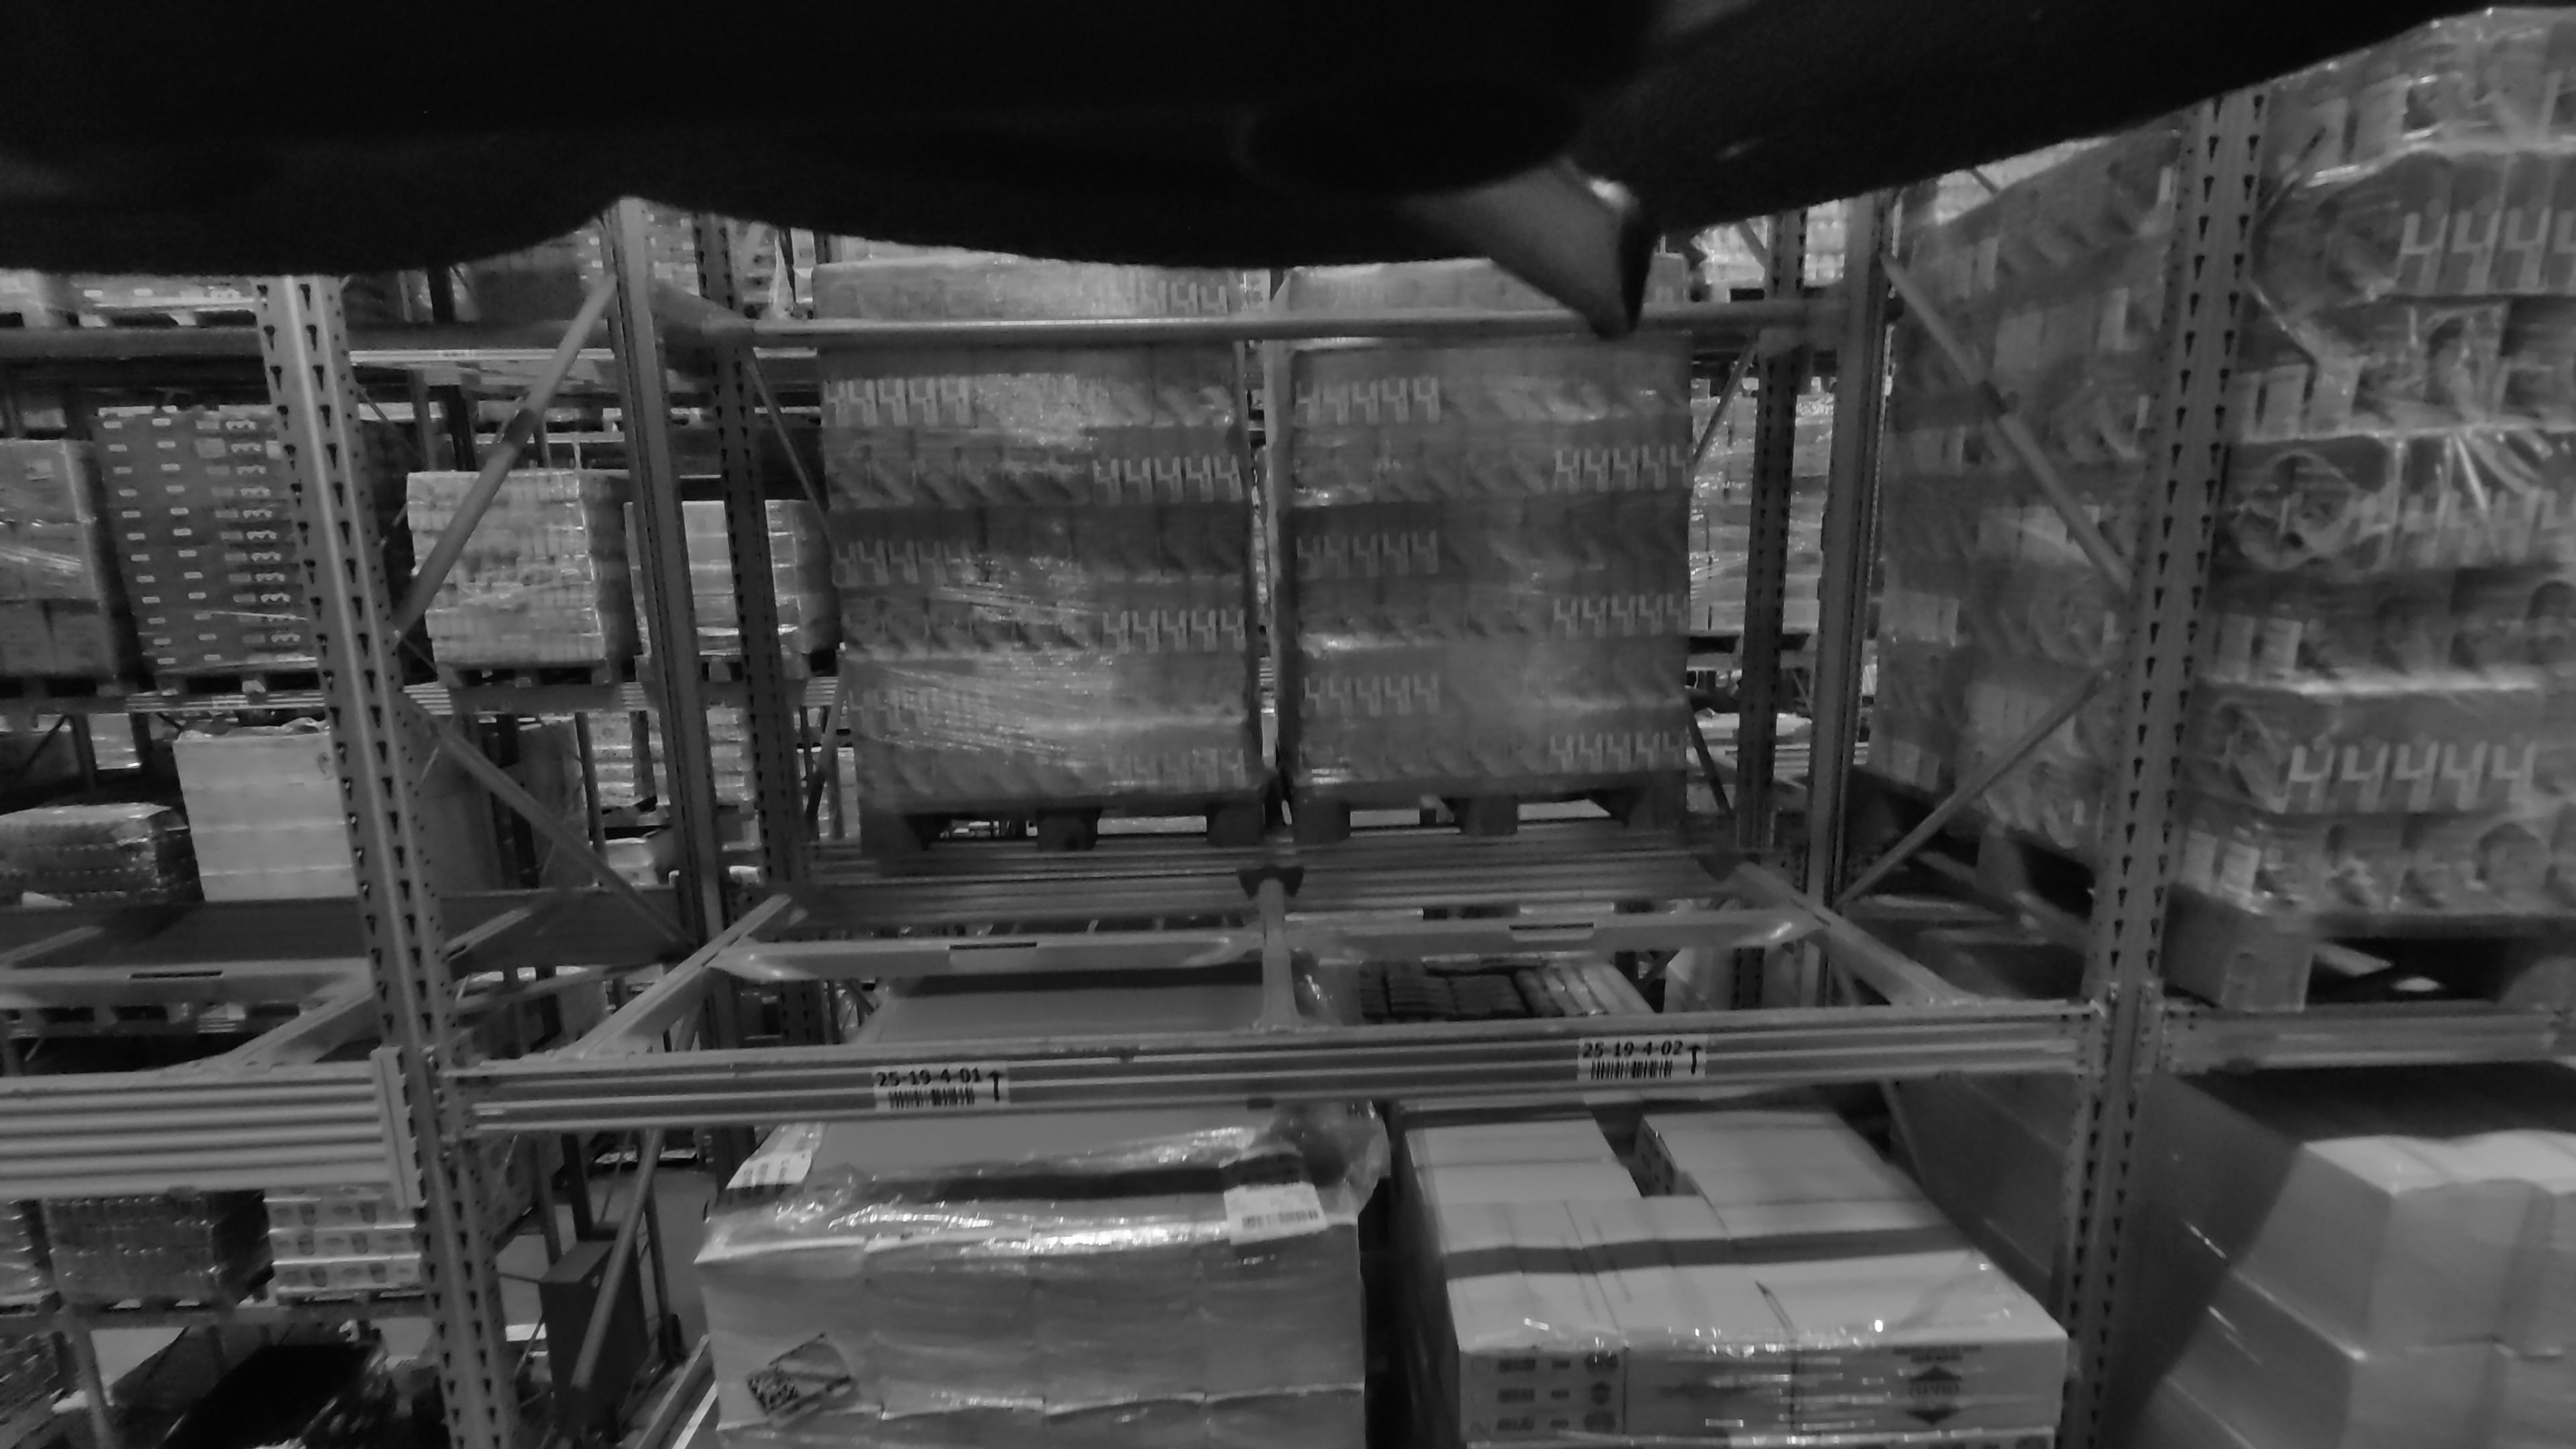empty-shelf: (649, 218, 1254, 1033), (1330, 235, 1925, 1003)
